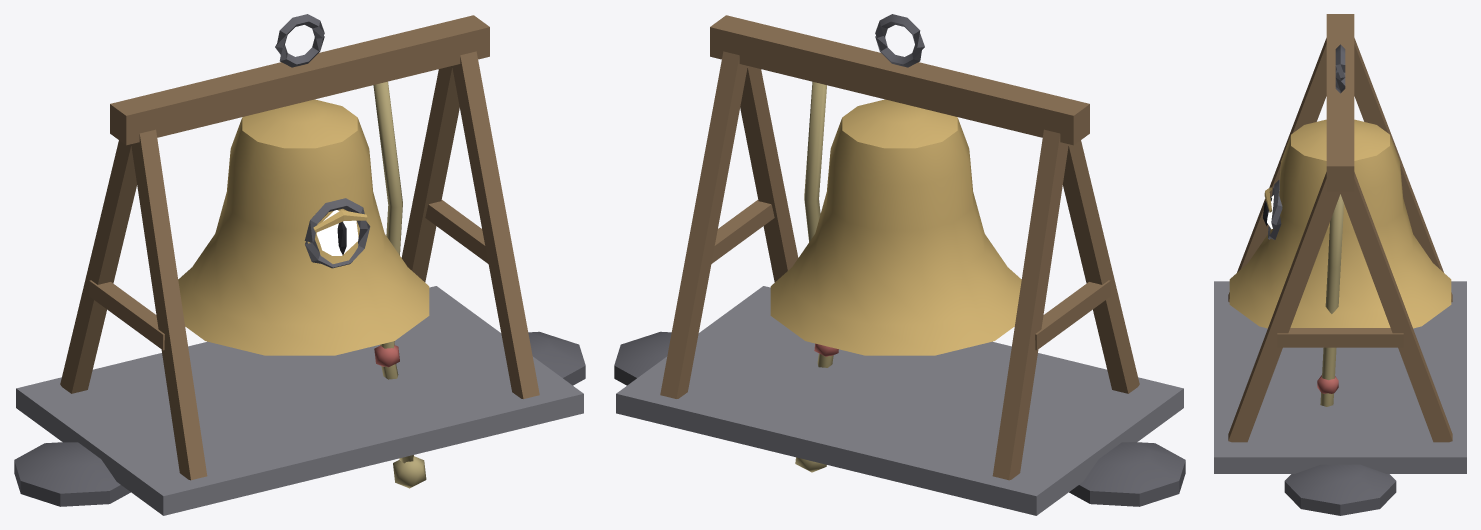
File: bell-muster-bell.glb
The picture shows the model from 3 angles, left to right: view 1: azimuth 30°, elevation 25°; view 2: azimuth 150°, elevation 25°; view 3: azimuth 270°, elevation 25°; orthographic projection. The views are drawn at different scales.
Parts seen in each view (by area): view 1: bell_muster_bell; view 2: bell_muster_bell; view 3: bell_muster_bell.
Boxes of the visible parts, <box> form: bell_muster_bell: <box>14,14,585,515</box>; bell_muster_bell: <box>614,14,1185,515</box>; bell_muster_bell: <box>1214,14,1466,515</box>.
Bounding box in the file's own units: 0.9546 × 0.7984 × 0.4362.
